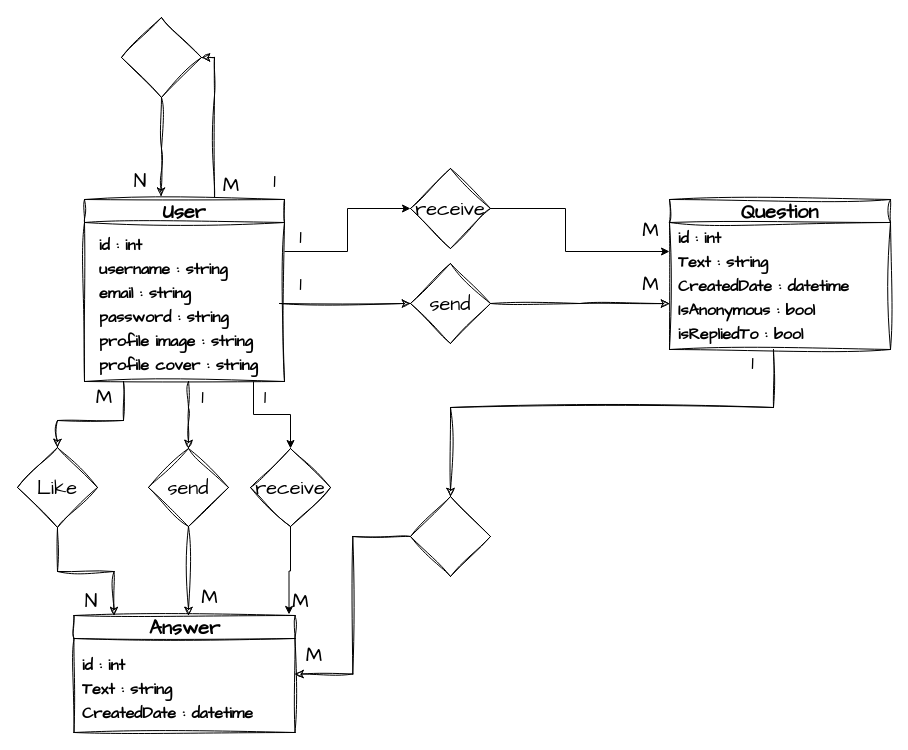
Some shapes in this 908 by 750 pixel diagram are drawn without their labels. Each missing label, with the centre of its shape:
"follow" belongs at [161,57].
"has" belongs at [450,536].
